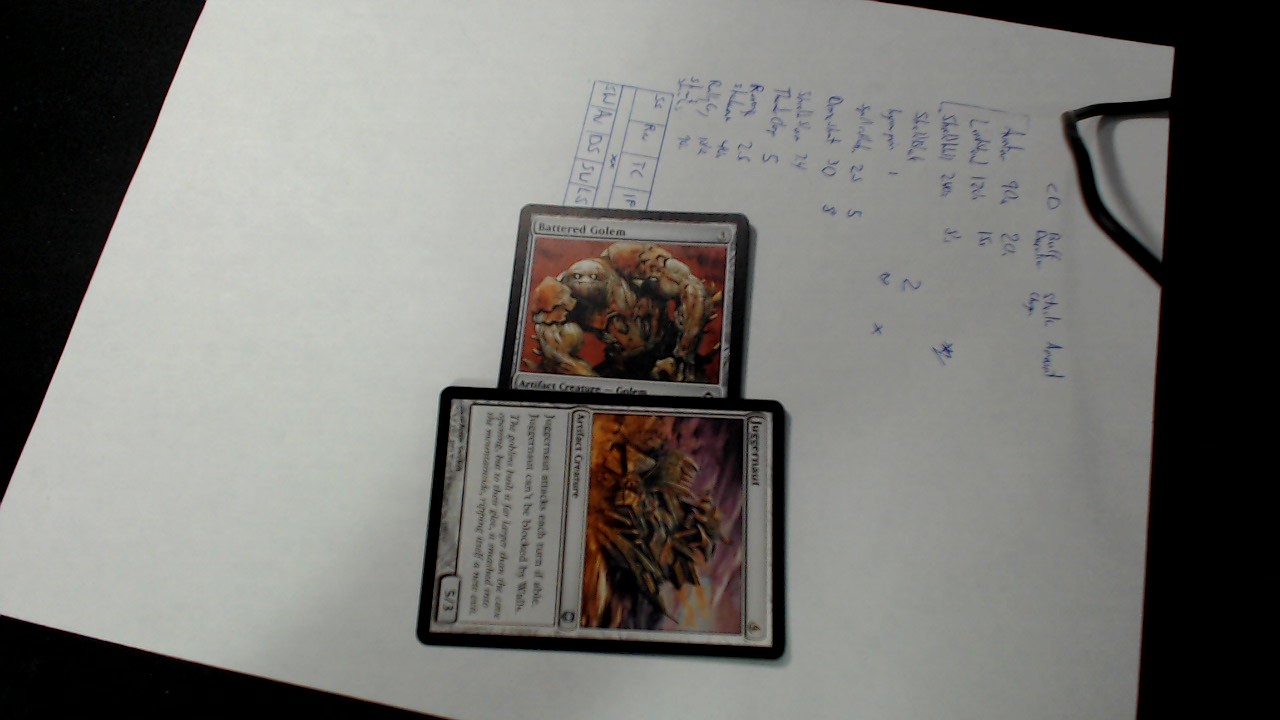MTG Card: (411, 385, 797, 672), (489, 201, 758, 426)
